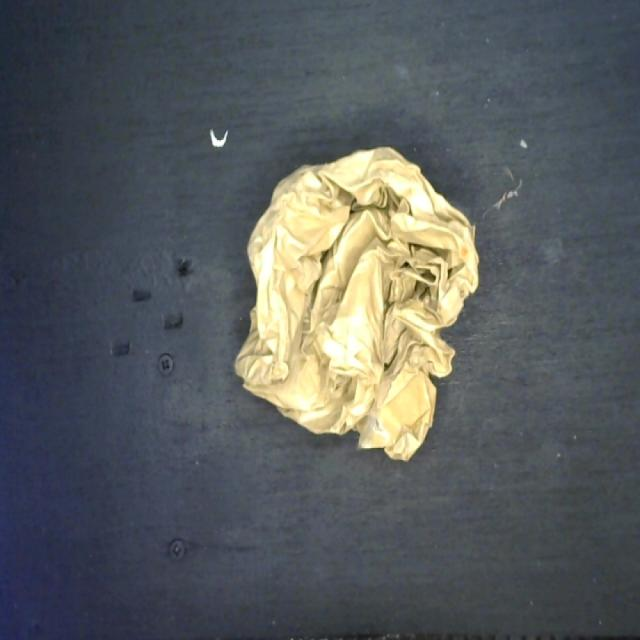biodegradable: (230, 137, 484, 474)
